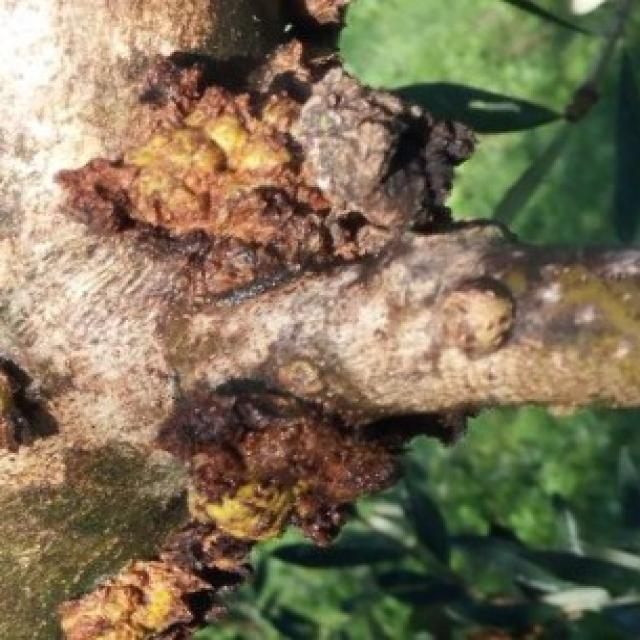Tuberculosis: (61, 391, 428, 638), (61, 68, 378, 264), (292, 58, 474, 228)
